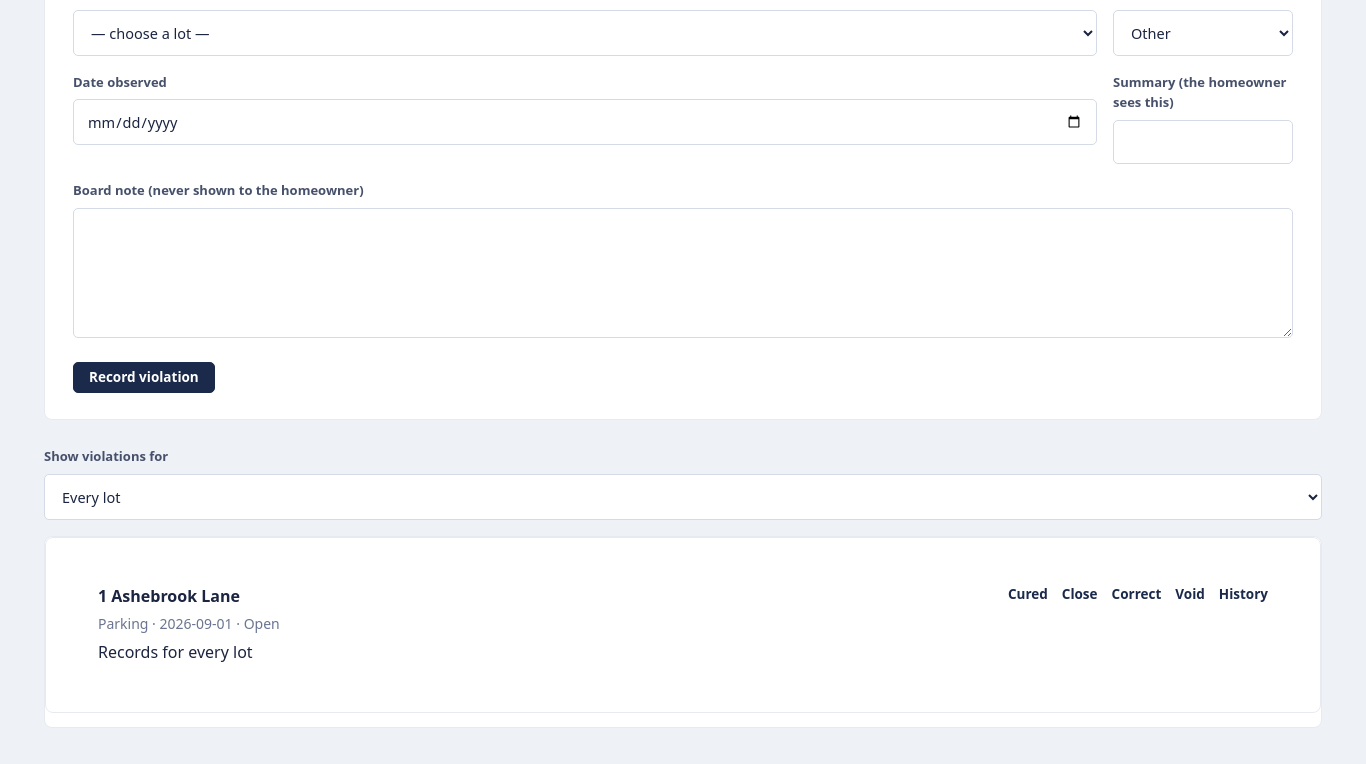
Test: when reads come back out of order › shows the lot the filter currently names, not the slower answer
(page scrolled)
Expected: the text "Records for every lot" is shown, [98,641,253,663]
Select "1 Ashebrook Lane" in the dropdown labelled "Show violations for": coordinates (683, 497) [44,474,1322,520]
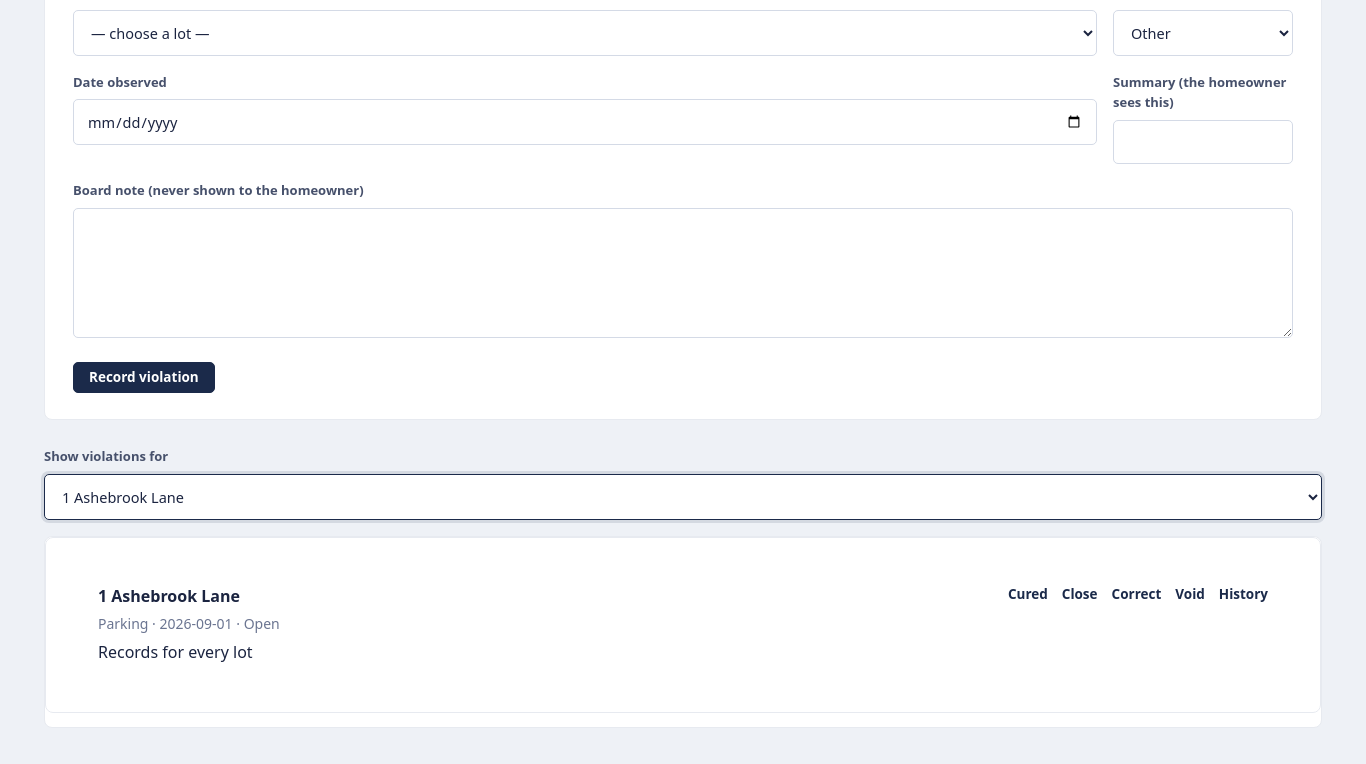
Select "2 Ashebrook Lane" in the dropdown labelled "Show violations for": coordinates (683, 497) [44,474,1322,520]
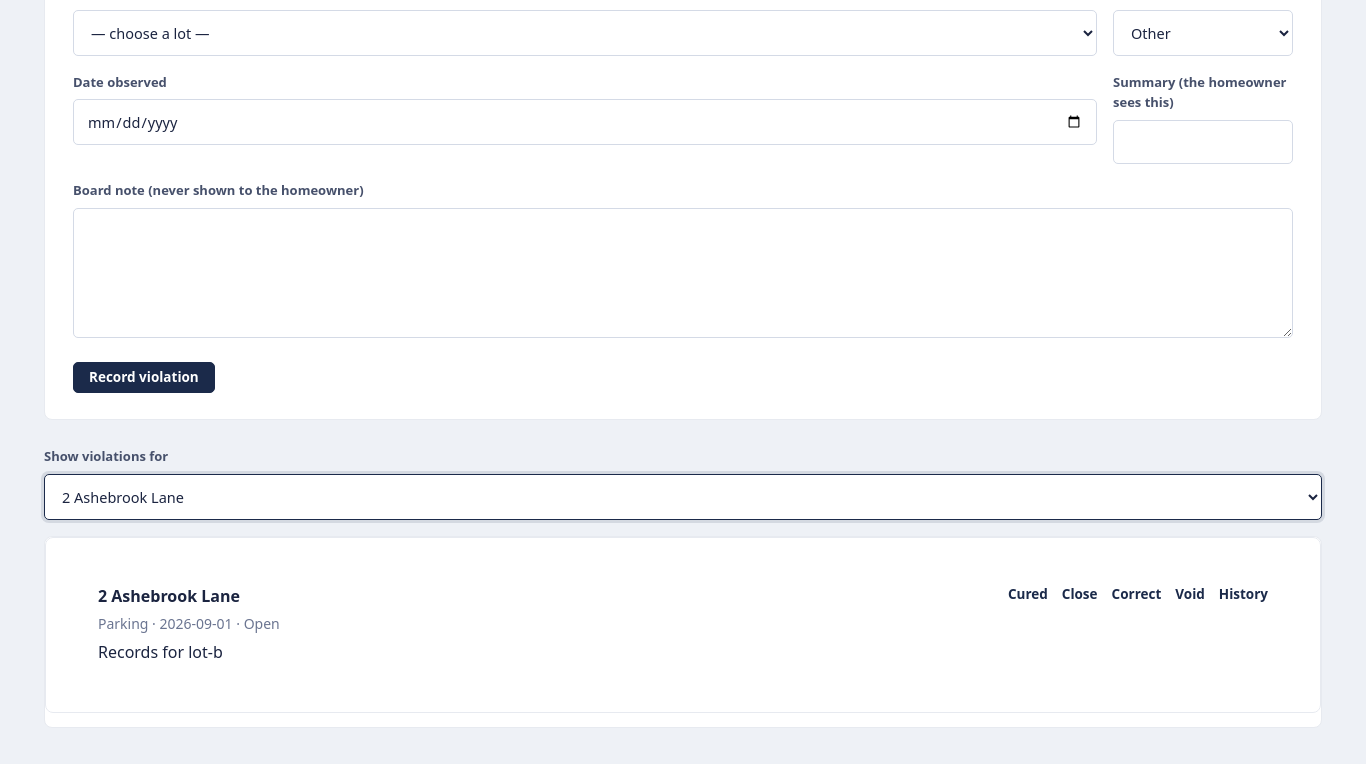
Result: the text "Records for lot-b" is shown at [98,641,223,663]
